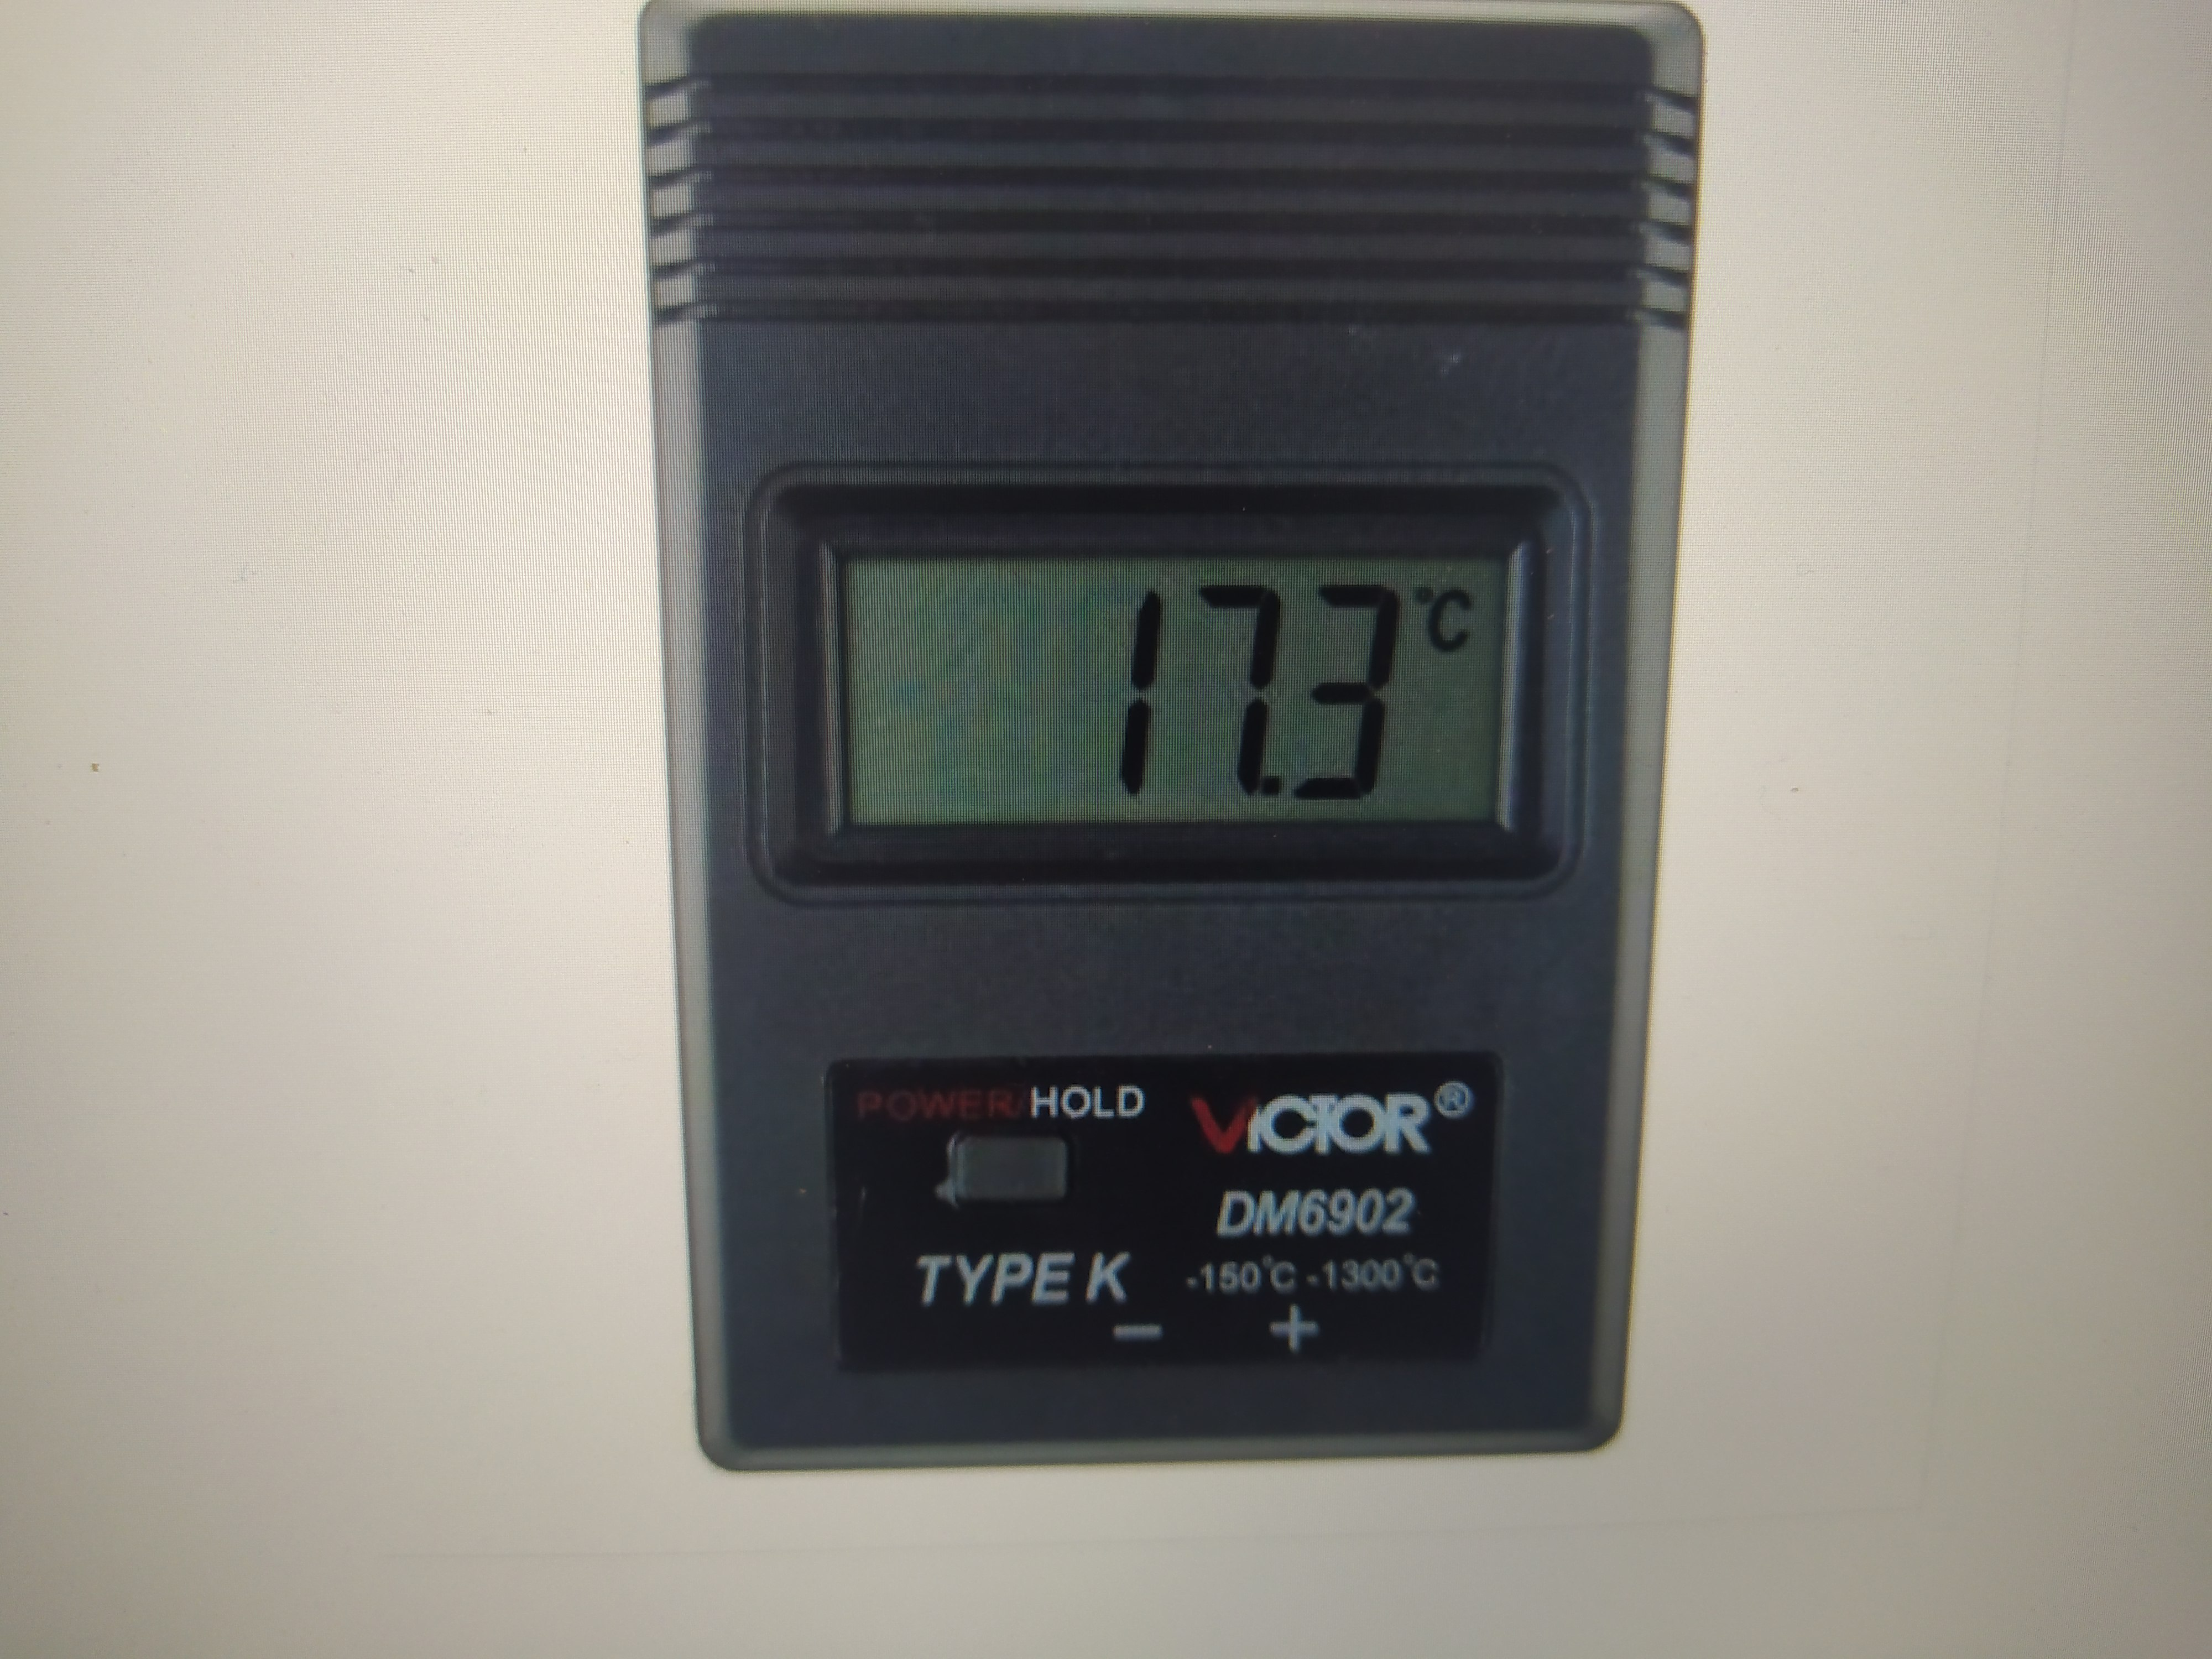.: (1254, 587, 1292, 800)
0: (1357, 1185, 1385, 1239), (1379, 1255, 1402, 1297), (1359, 1255, 1379, 1297), (1240, 1260, 1261, 1295)
1: (1099, 587, 1179, 795), (1198, 1262, 1216, 1295), (1322, 1260, 1338, 1293)
2: (1385, 1185, 1416, 1241)
3: (1299, 584, 1404, 802), (1338, 1258, 1360, 1295)
5: (1216, 1262, 1238, 1293)
6: (1299, 1187, 1329, 1236)
7: (1193, 582, 1285, 800)
9: (1325, 1185, 1357, 1237)
